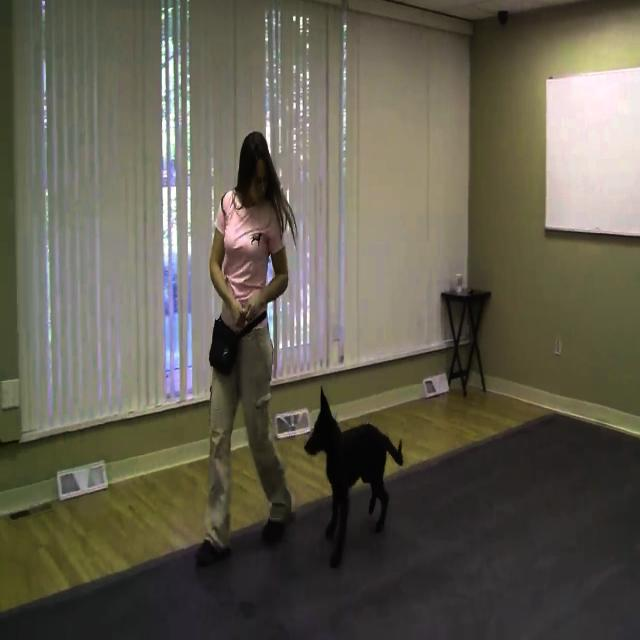Unleashed_Dog: (210, 382, 404, 566)
